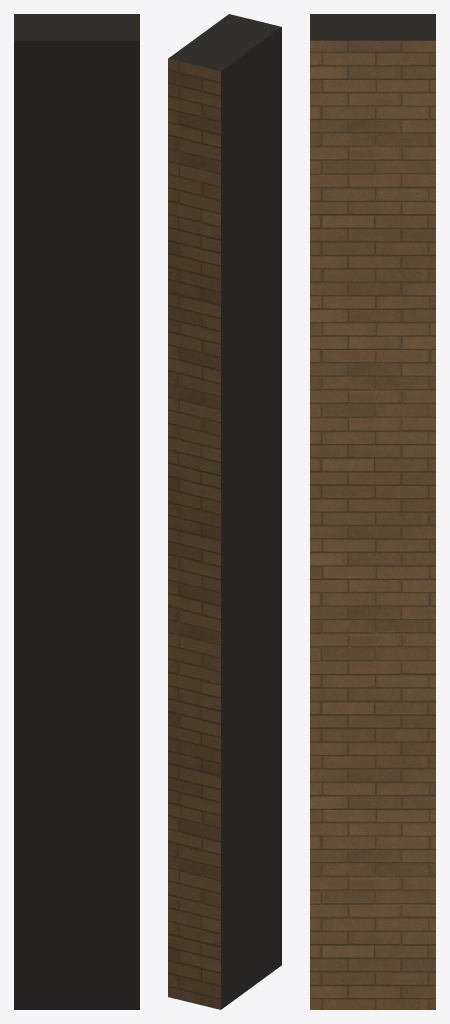
Rendered from GYM_Brick_SMC_1.fbx.
3 renders of one model, left to right at view 1: azimuth 90°, elevation 25°; view 2: azimuth 150°, elevation 25°; view 3: azimuth 270°, elevation 25°, orthographic. The views are drawn at different scales.
Visible parts, largest first — view 1: VPS_Brick_Wall_Custom; view 2: VPS_Brick_Wall_Custom; view 3: VPS_Brick_Wall_Custom.
Part boxes in pixels (x1=…): VPS_Brick_Wall_Custom: x1=14, y1=14, x2=139, y2=1009; VPS_Brick_Wall_Custom: x1=168, y1=14, x2=281, y2=1009; VPS_Brick_Wall_Custom: x1=310, y1=14, x2=435, y2=1009.
Size of the model in its own units: 0.5 by 8.5 by 1.
2 materials, 1 textured.
